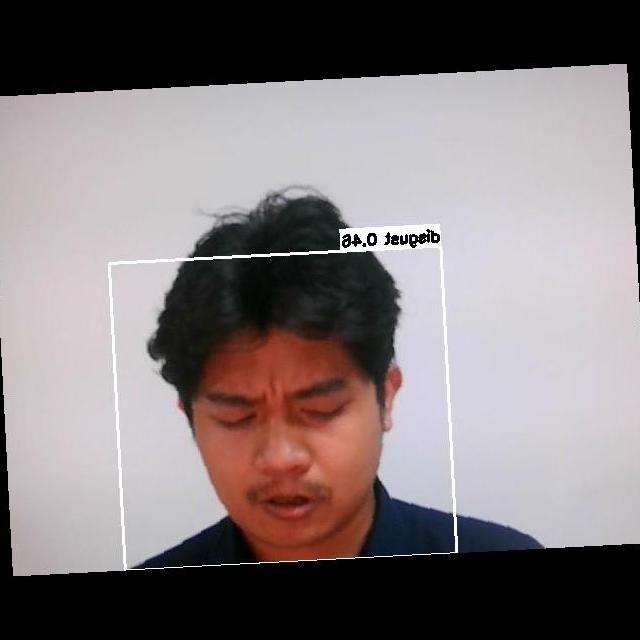Angry: (192, 361, 395, 536)
